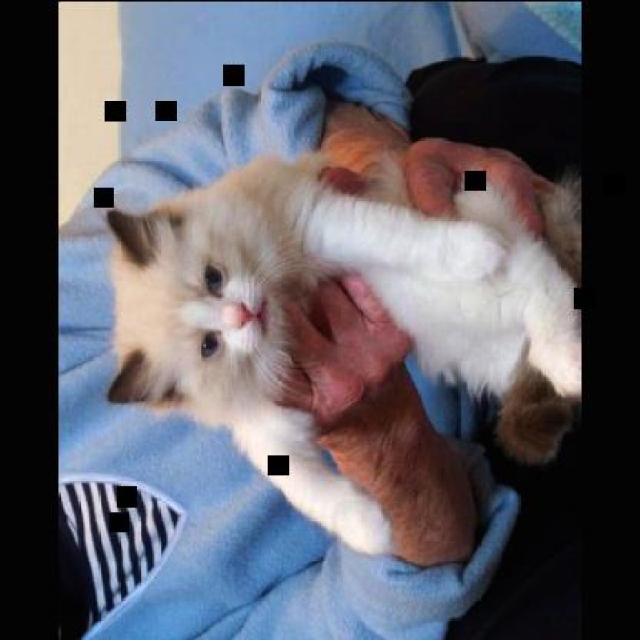unauthorized: (103, 102, 582, 563)
